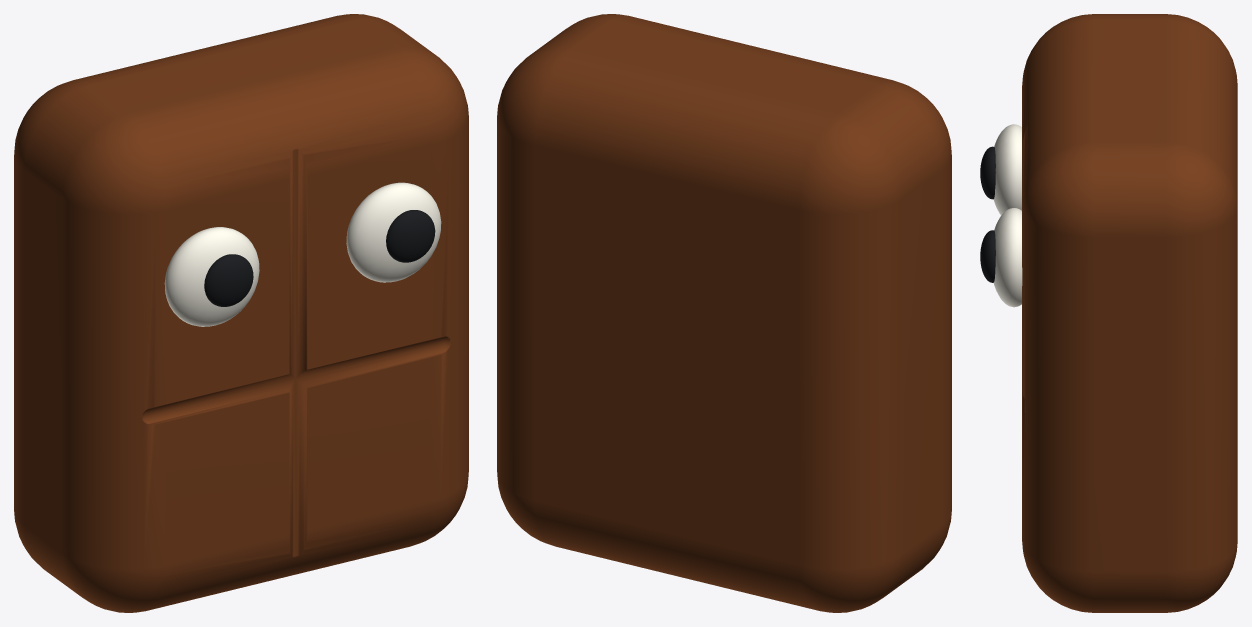
Rendered from img-9986.glb.
3 views of the same model, side by side, from view 1: azimuth 30°, elevation 25°; view 2: azimuth 150°, elevation 25°; view 3: azimuth 270°, elevation 25° (orthographic). The views are drawn at different scales.
Visible parts, largest first — view 1: IMG_9986__Chocolate rounded bar.012, IMG_9986__EyeWhite_0.016, IMG_9986__EyeWhite_1.016, IMG_9986__Pupil_0.016, IMG_9986__Pupil_1.016; view 2: IMG_9986__Chocolate rounded bar.012; view 3: IMG_9986__Chocolate rounded bar.012, IMG_9986__EyeWhite_1.016, IMG_9986__EyeWhite_0.016, IMG_9986__Pupil_1.016, IMG_9986__Pupil_0.016.
Part boxes in pixels (bbox=[...]): IMG_9986__Chocolate rounded bar.012: bbox=[14, 14, 468, 612]; IMG_9986__EyeWhite_0.016: bbox=[164, 227, 259, 326]; IMG_9986__EyeWhite_1.016: bbox=[346, 182, 441, 282]; IMG_9986__Pupil_0.016: bbox=[204, 254, 253, 306]; IMG_9986__Pupil_1.016: bbox=[386, 210, 435, 262]; IMG_9986__Chocolate rounded bar.012: bbox=[497, 14, 951, 612]; IMG_9986__Chocolate rounded bar.012: bbox=[1022, 14, 1237, 612]; IMG_9986__EyeWhite_1.016: bbox=[993, 208, 1022, 307]; IMG_9986__EyeWhite_0.016: bbox=[993, 124, 1021, 215]; IMG_9986__Pupil_1.016: bbox=[980, 230, 995, 282]; IMG_9986__Pupil_0.016: bbox=[980, 146, 995, 199].
Bounding box in the file's own units: 0.8421 × 1 × 0.5028.
